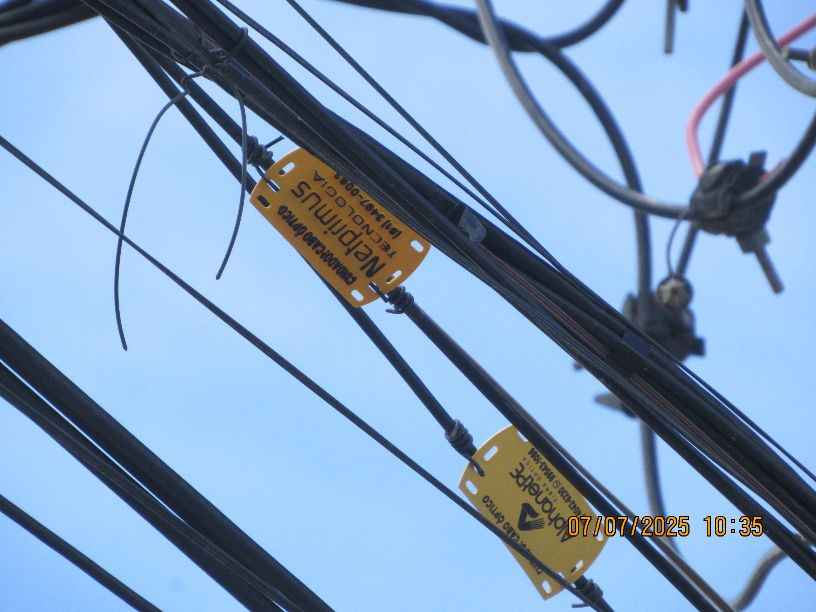fibra_optica: (191, 89, 455, 318), (408, 385, 639, 598)
